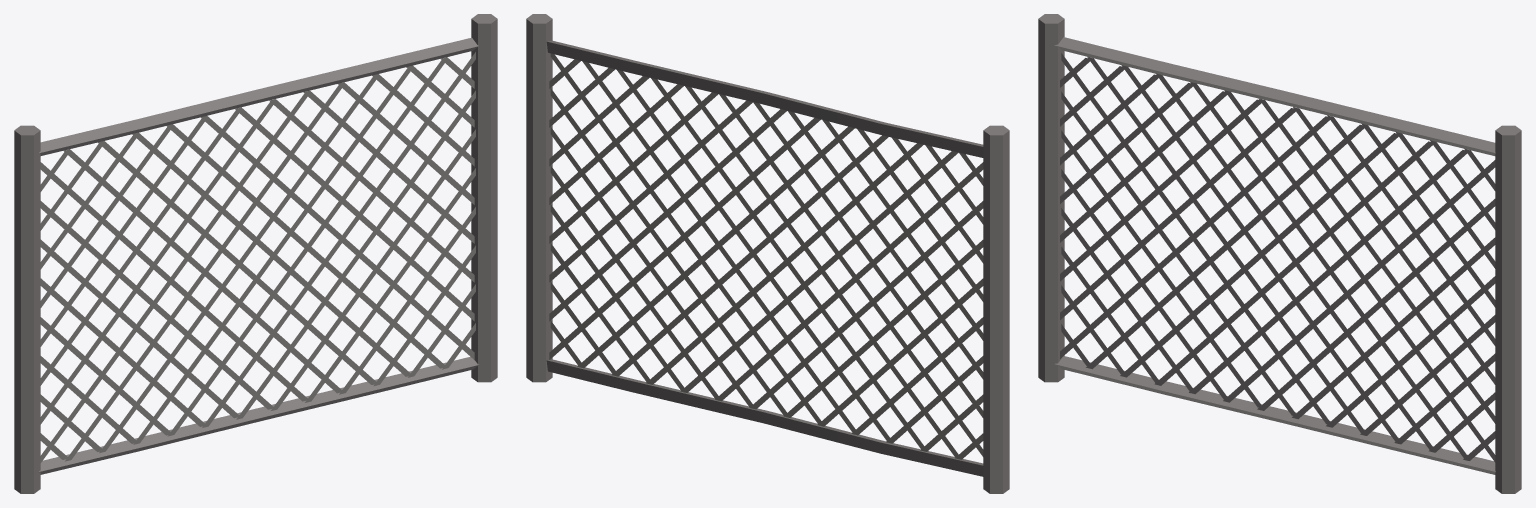
Rendered from fence-steel-col.glb.
3 views of the same model, side by side, from view 1: azimuth 30°, elevation 25°; view 2: azimuth 150°, elevation 25°; view 3: azimuth 330°, elevation 25° (orthographic).
Parts seen in each view (by area): view 1: fence_steel-col; view 2: fence_steel-col; view 3: fence_steel-col.
Boxes of the visible parts, x1,y1,x2,y2 form: fence_steel-col: (14, 14, 497, 493); fence_steel-col: (526, 14, 1009, 493); fence_steel-col: (1038, 14, 1521, 493).
Size of the model in its own units: 4.17 by 3 by 0.2.
Materials: 1 (1 with a texture image).
